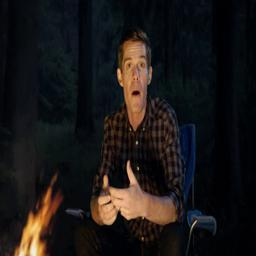fire: (15, 175, 63, 256)
